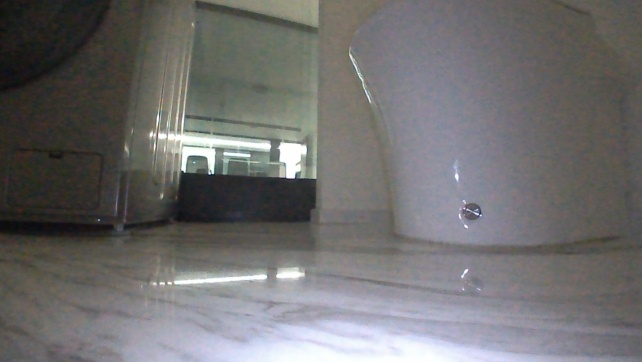toilet: (330, 2, 641, 264)
washing_machine: (1, 0, 216, 227)
